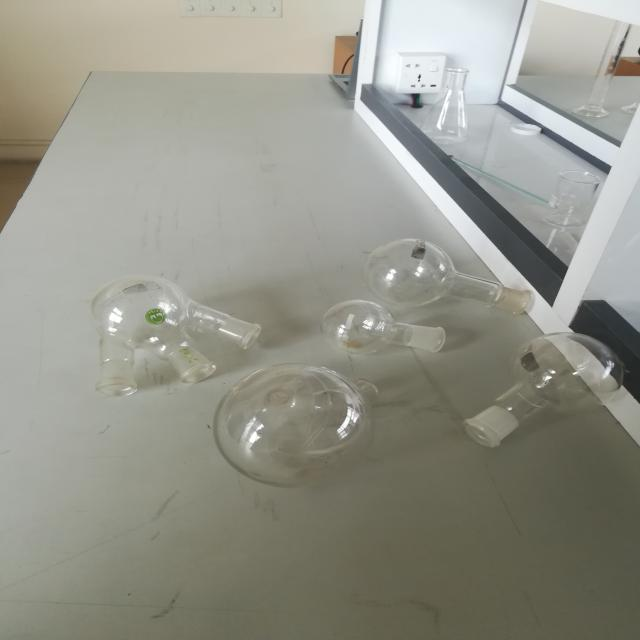Round_Bottom_Flask_Borosilicate_Glass_1_Neck: (445, 316, 640, 467), (357, 221, 566, 324), (299, 280, 482, 364)
Round_Bottom_Flask_Borosilicate_Glass_2_Neck: (185, 344, 416, 493)
Round_Bottom_Flask_Borosilicate_Glass_3_Neck: (67, 236, 270, 413)
